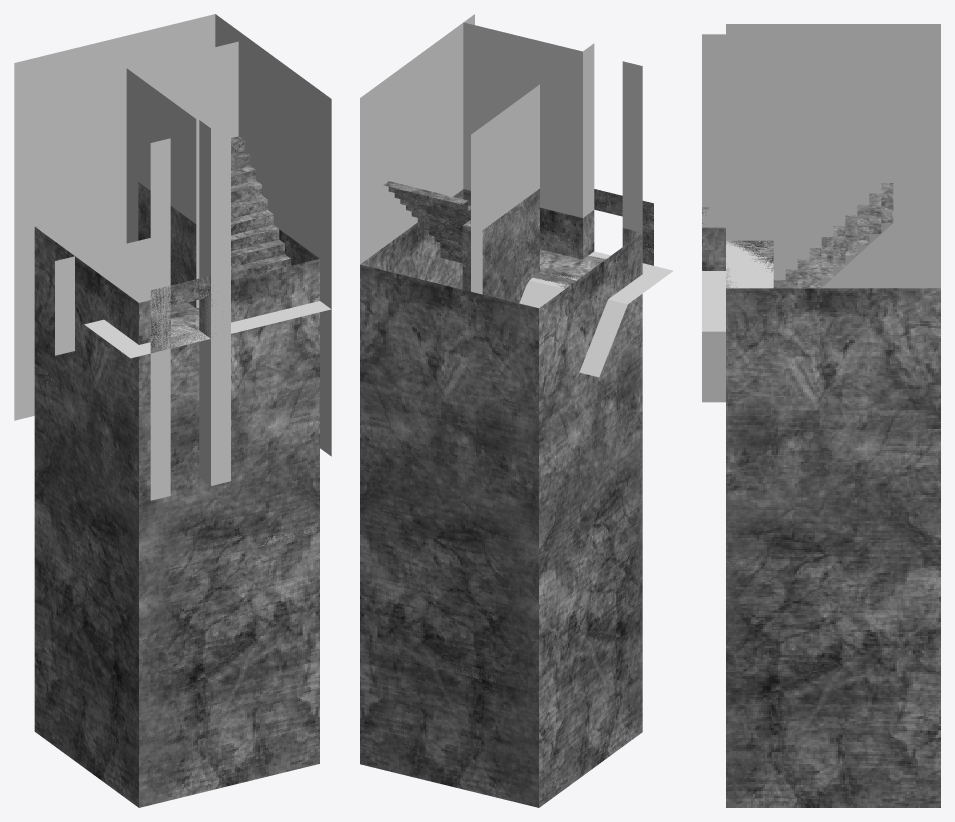
Rendered from LevelTransitionStaircase.glb.
The picture shows the model from 3 angles, left to right: view 1: azimuth 30°, elevation 25°; view 2: azimuth 150°, elevation 25°; view 3: azimuth 270°, elevation 25°; orthographic projection. The views are drawn at different scales.
Visible parts, largest first — view 1: Cube, COLL, Plane.001, Cube.002, Cube.001; view 2: Cube, COLL, Cube.002, Cube.001, Plane.001; view 3: Cube, COLL, Plane.001, Cube.001.
Part boxes in pixels (<box>): Cube: <box>34,226,319,807</box>; COLL: <box>14,14,331,500</box>; Plane.001: <box>231,136,290,280</box>; Cube.002: <box>138,182,196,307</box>; Cube.001: <box>34,308,319,631</box>; Cube: <box>360,189,653,807</box>; COLL: <box>360,14,673,377</box>; Cube.002: <box>462,188,539,303</box>; Cube.001: <box>360,247,642,692</box>; Plane.001: <box>383,181,470,252</box>; Cube: <box>702,207,940,807</box>; COLL: <box>702,24,940,402</box>; Plane.001: <box>773,183,893,288</box>; Cube.001: <box>726,240,940,681</box>.
Size of the model in its own units: 10 by 32 by 10.
Materials: 1 (1 with a texture image).
